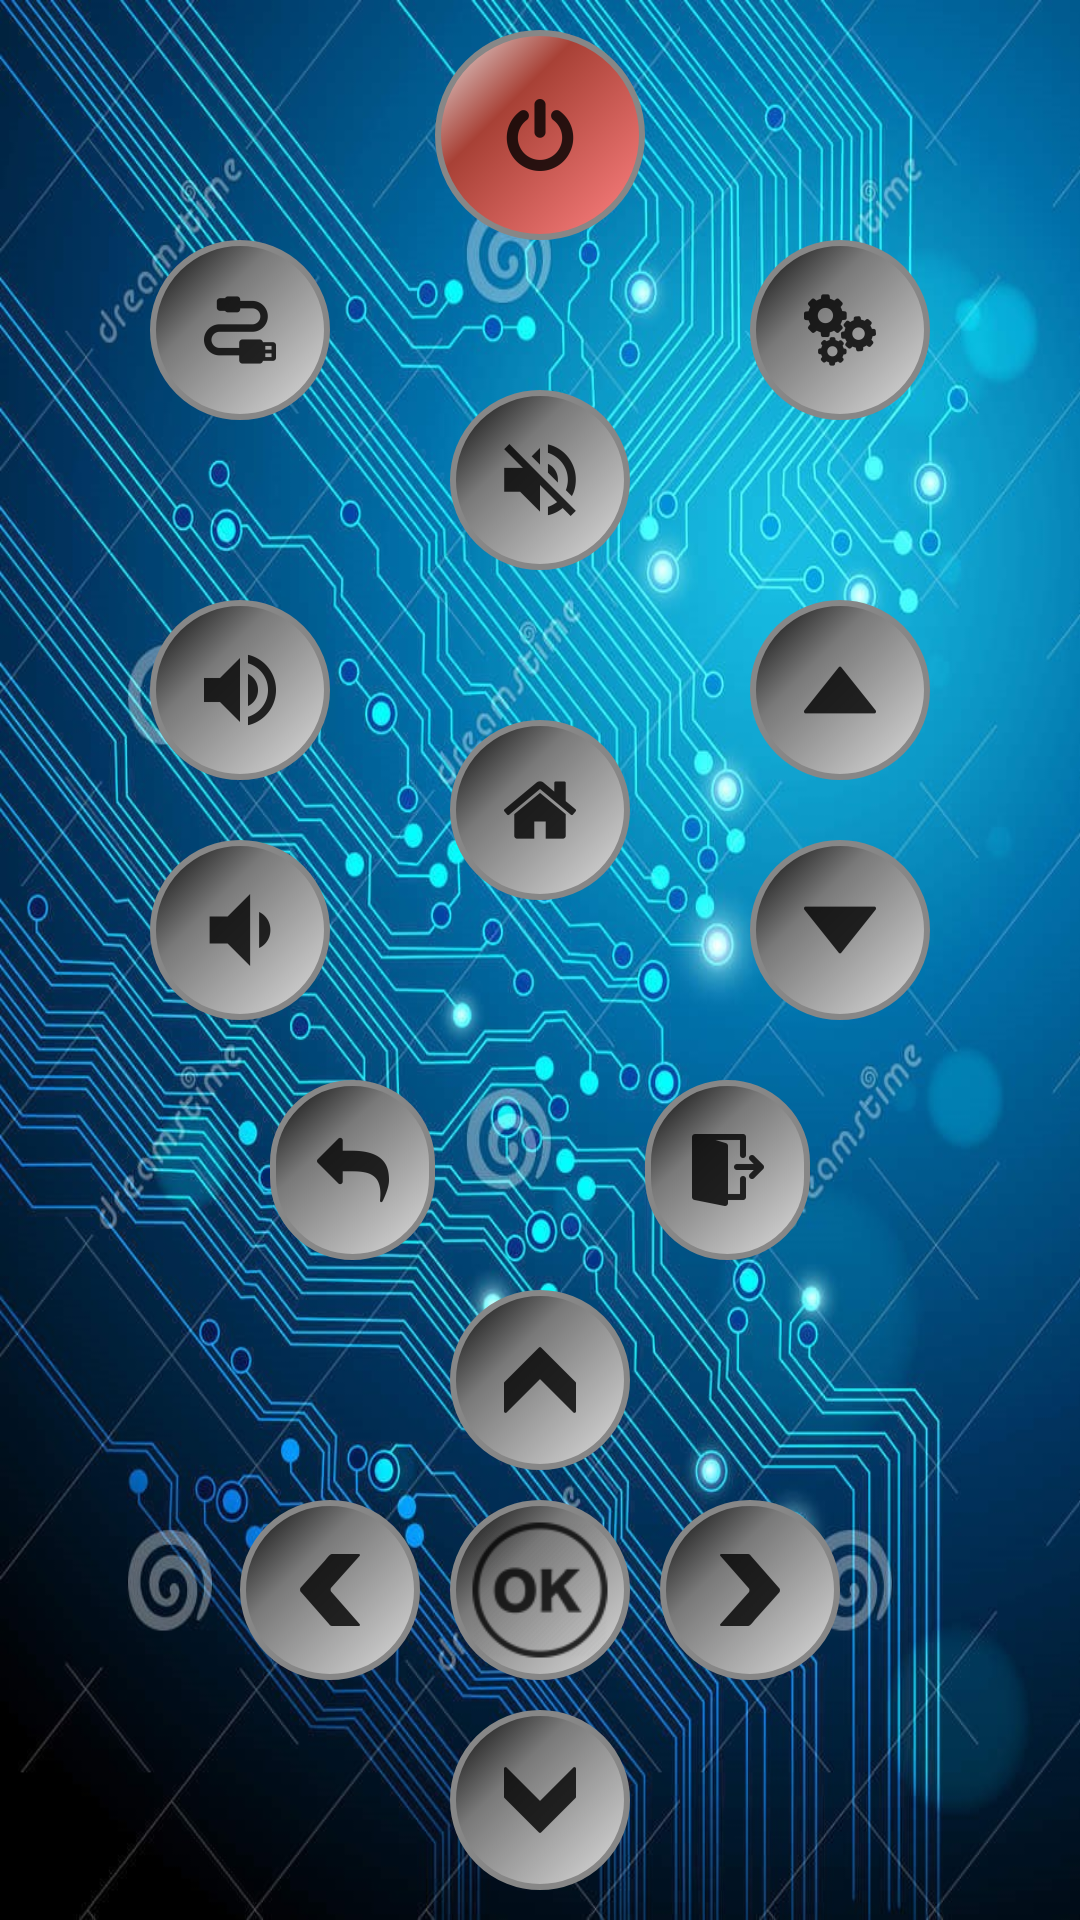

Named icons in this screenshot (1080*1920) and their centers, point (x, y):
back: point (352, 1170)
cable: point (240, 330)
down: point (540, 1800)
down triangle: point (840, 930)
exit: point (727, 1170)
home: point (540, 810)
left: point (330, 1590)
mute: point (540, 480)
power: point (540, 135)
right: point (750, 1590)
settings: point (840, 330)
up triangle: point (840, 690)
volume down: point (240, 930)
volume up: point (240, 690)
